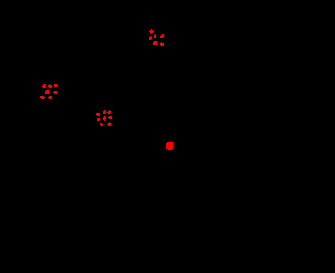Target: (166, 142, 173, 150), (149, 29, 154, 34), (160, 34, 164, 38), (153, 41, 157, 45), (160, 42, 164, 46), (42, 84, 46, 88), (48, 84, 52, 88), (45, 90, 49, 94), (107, 110, 111, 114), (107, 122, 111, 126), (40, 96, 45, 99), (103, 116, 106, 121), (149, 36, 152, 40), (53, 91, 57, 94), (48, 96, 52, 99), (103, 110, 106, 114), (96, 113, 100, 116), (108, 116, 112, 119), (54, 84, 57, 87), (97, 118, 100, 121), (100, 123, 103, 126), (154, 34, 156, 38)
